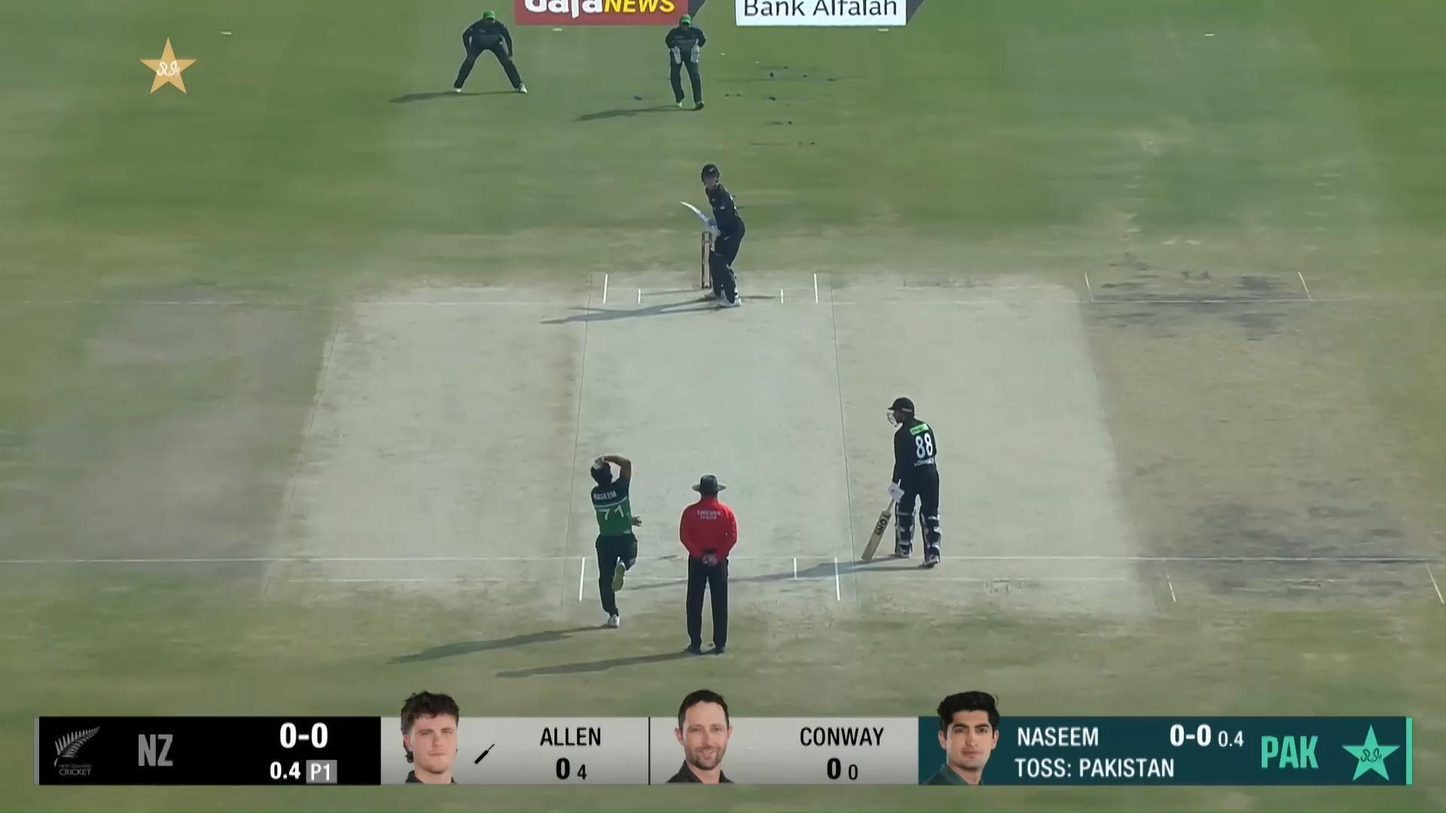BM 1: (680, 163, 745, 308)
BO: (589, 453, 644, 628)
